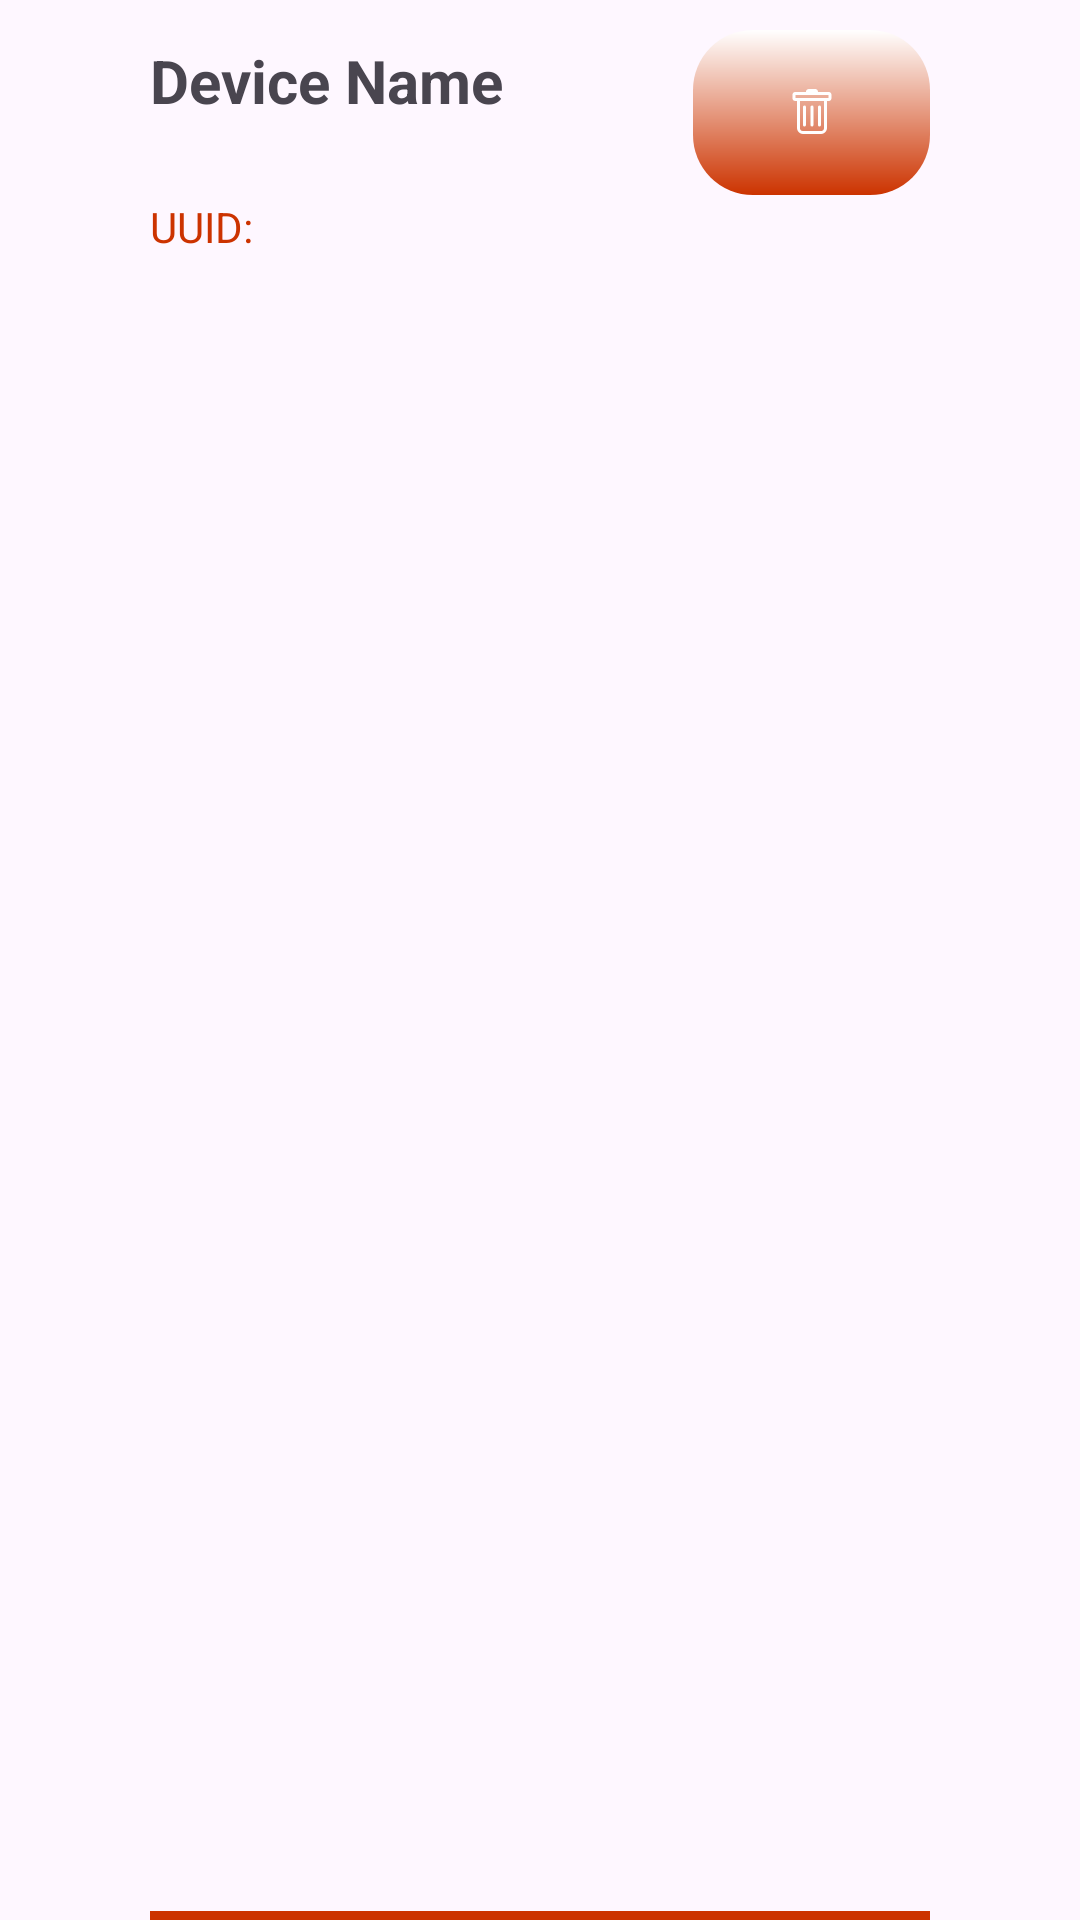

Named icons in this screenshot (1080×1920) and their centers, (x=x, y=y):
trash: (x=811, y=120)
